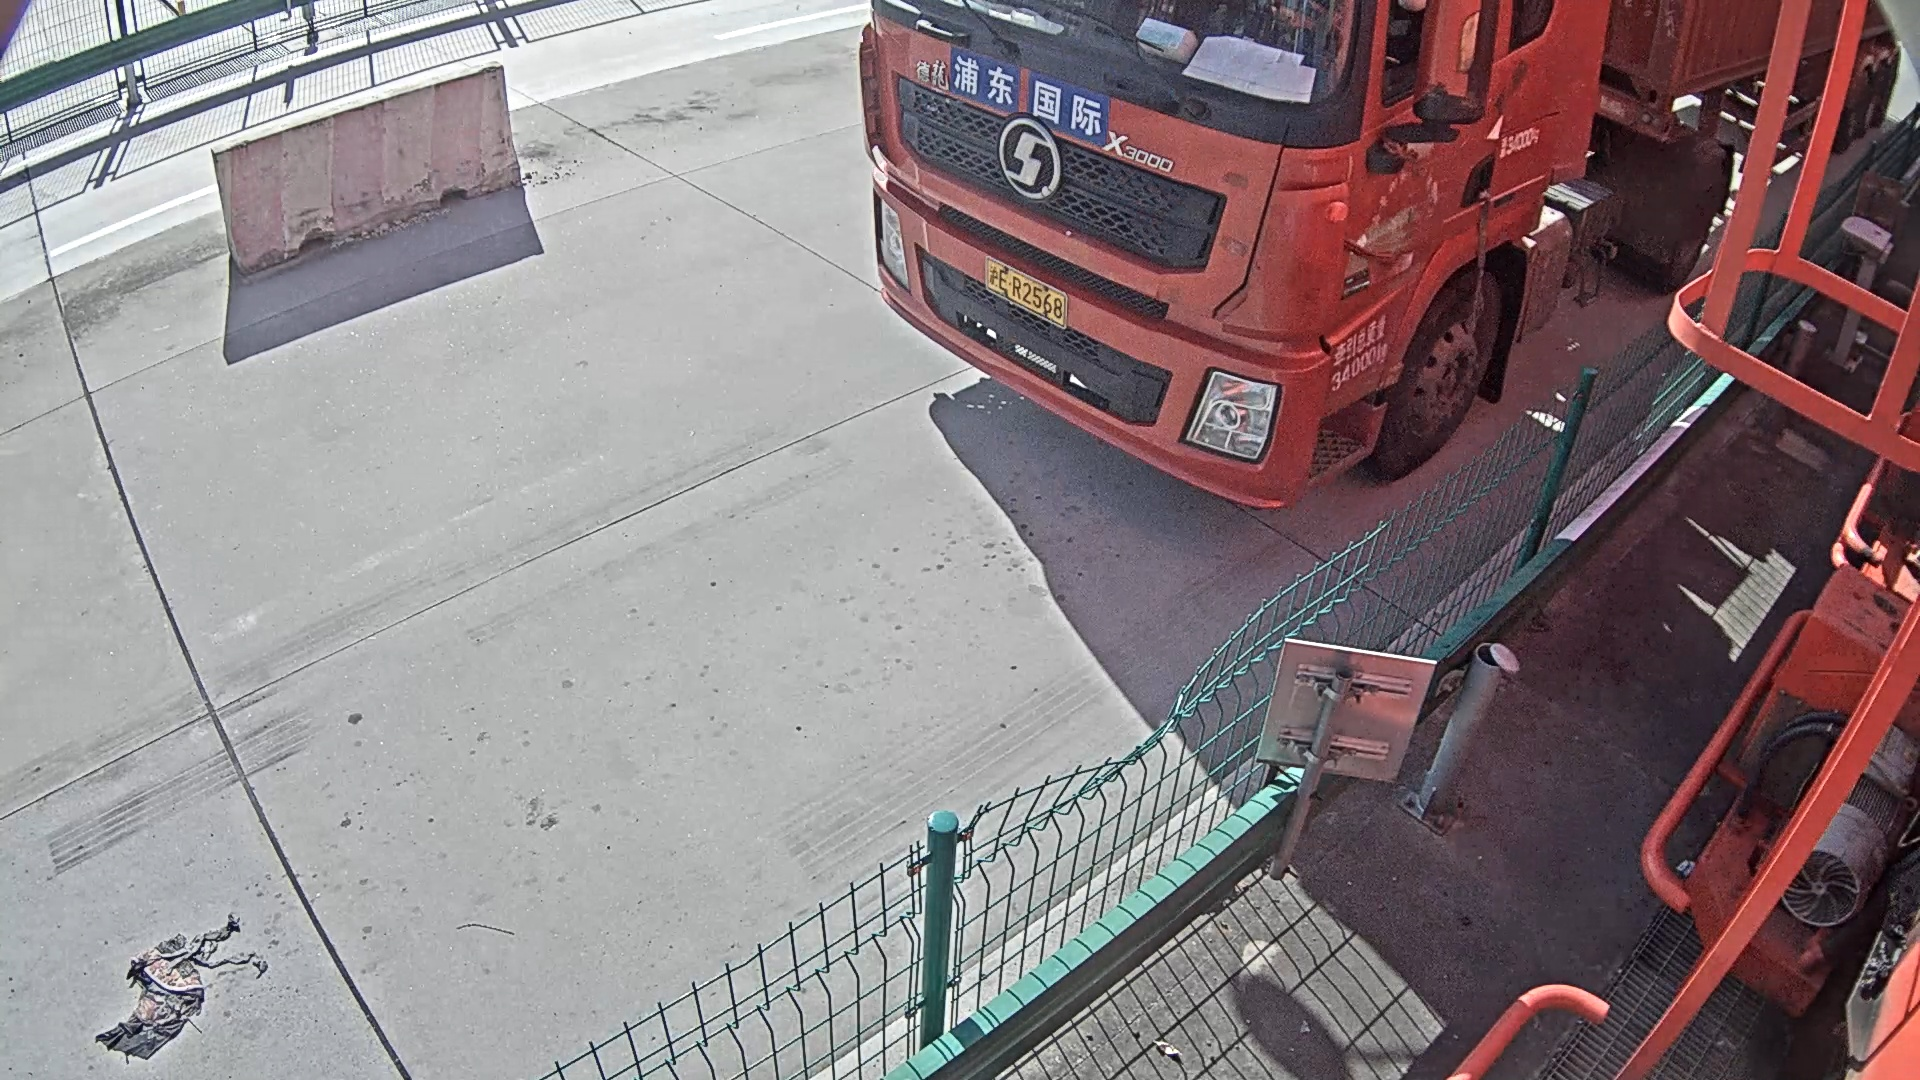head: (862, 1, 1598, 496)
plate: (982, 254, 1070, 327)
